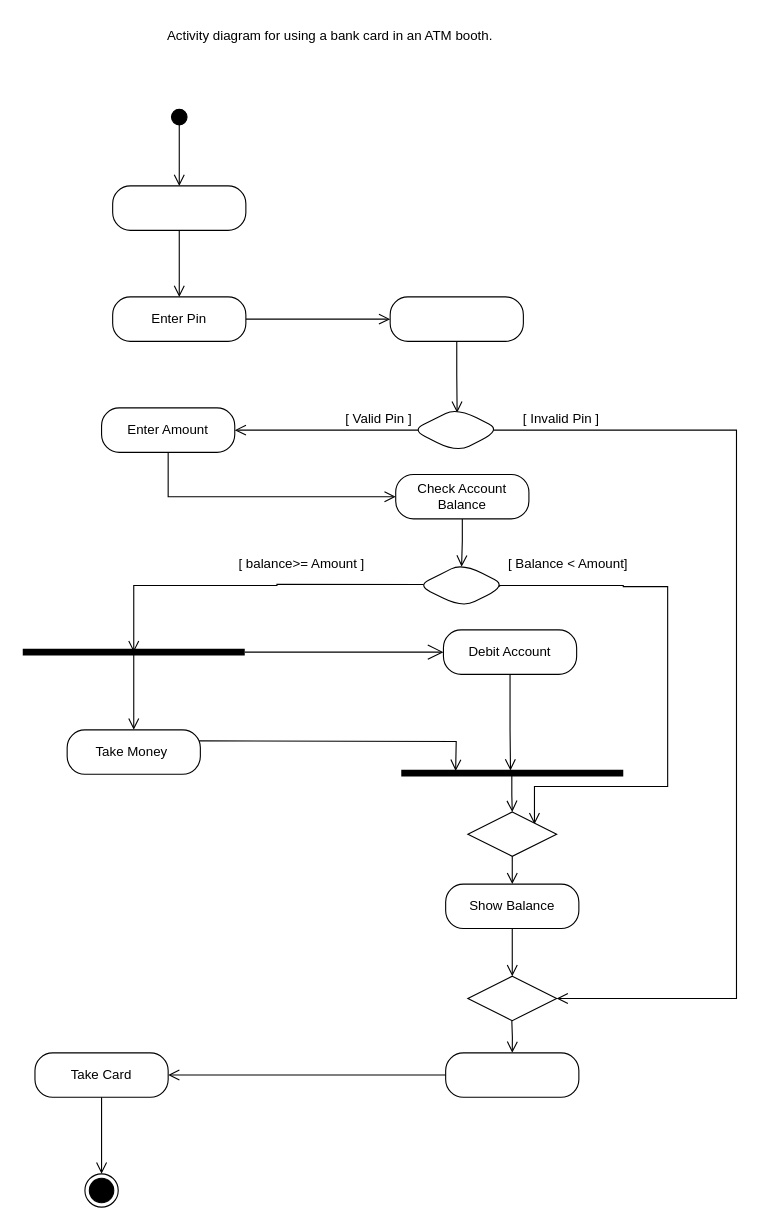
Image size: 767x1227. Some labels were removed from this diagram. Here are the shapes that lost their labels. From the top down, the centre of each, then its label:
At [179,207]: "Insert Card".
At [456,318]: "Authorize".
At [512,1074]: "Eject Card".
